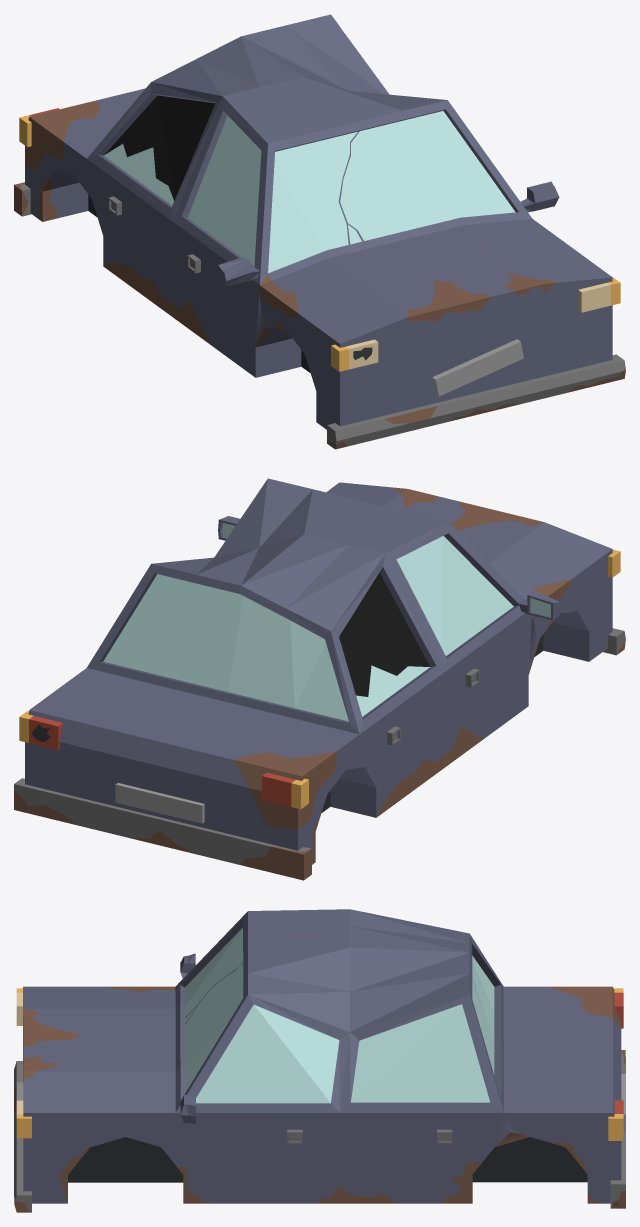
File: OldCar_01.fbx
3 renders of one model, top to bottom at view 1: azimuth 30°, elevation 25°; view 2: azimuth 150°, elevation 25°; view 3: azimuth 270°, elevation 25°, orthographic. The views are drawn at different scales.
Visible parts, largest first — view 1: OldCar_01; view 2: OldCar_01; view 3: OldCar_01.
Boxes of the visible parts, box(x1,y1,x2,y2) form: OldCar_01: box(14, 14, 625, 449); OldCar_01: box(14, 478, 625, 880); OldCar_01: box(14, 909, 625, 1212).
Size of the model in its own units: 196 by 117 by 326.
